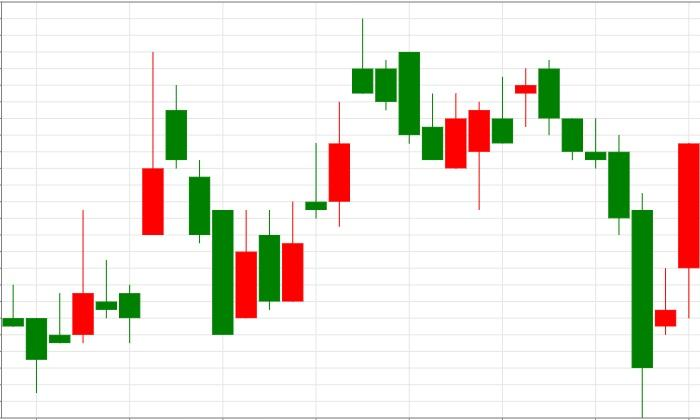bullish_engulfing_rise: (352, 18, 466, 168)
shooting_star_fall: (235, 18, 374, 319)
